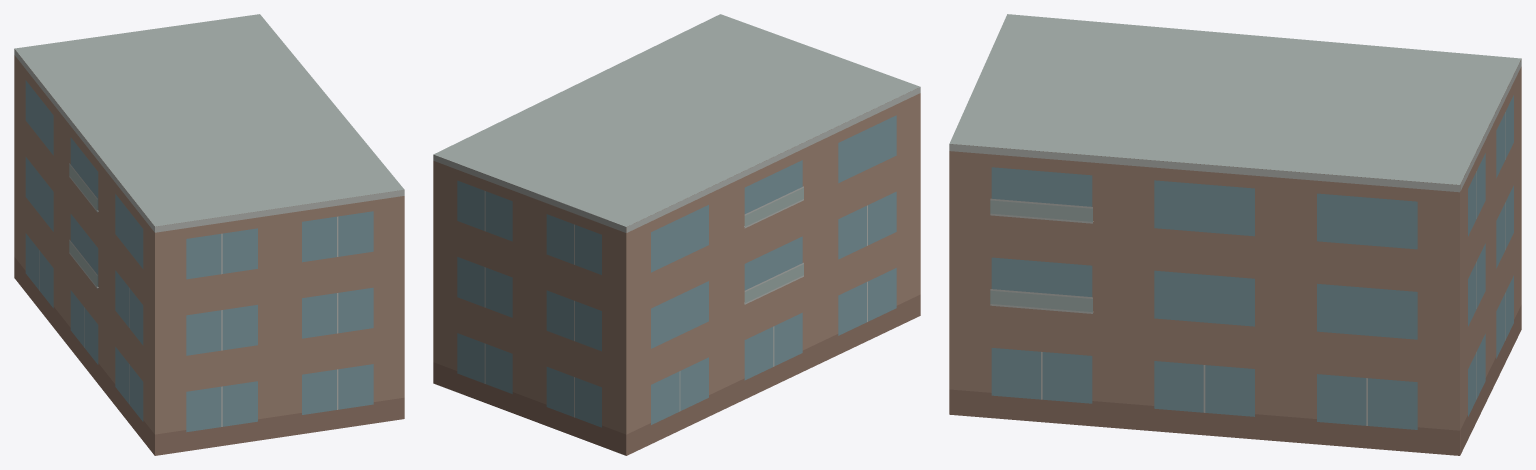
The model's file is survey-upis-32972071.glb.
3 renders of one model, left to right at view 1: azimuth 30°, elevation 25°; view 2: azimuth 150°, elevation 25°; view 3: azimuth 270°, elevation 25°, orthographic. The views are drawn at different scales.
Parts seen in each view (by area): view 1: survey-upis-32972071.tmp; view 2: survey-upis-32972071.tmp; view 3: survey-upis-32972071.tmp.
Part boxes in pixels (x1,y1,x2,y2): survey-upis-32972071.tmp: (14,14,404,455); survey-upis-32972071.tmp: (433,14,920,455); survey-upis-32972071.tmp: (949,14,1521,455).
Size of the model in its own units: 12.33 by 9.1 by 17.44.
